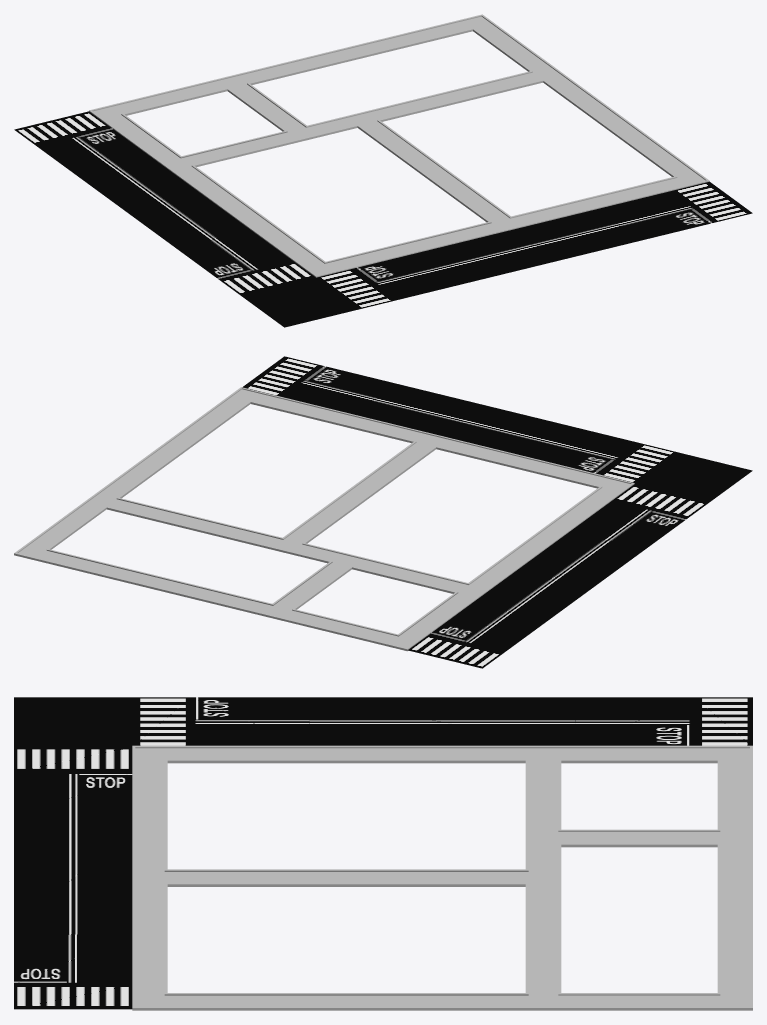
The model's file is Street_07.fbx.
3 views of the same model, one above another, from view 1: azimuth 30°, elevation 25°; view 2: azimuth 150°, elevation 25°; view 3: azimuth 270°, elevation 25° (orthographic). The views are drawn at different scales.
Parts seen in each view (by area): view 1: road, sidewalk; view 2: road, sidewalk; view 3: road, sidewalk.
Part boxes in pixels (x1=…): road: x1=14, y1=111, x2=752, y2=327; sidewalk: x1=89, y1=14, x2=709, y2=277; road: x1=242, y1=356, x2=752, y2=668; sidewalk: x1=14, y1=387, x2=634, y2=651; road: x1=14, y1=697, x2=752, y2=1009; sidewalk: x1=132, y1=745, x2=752, y2=1010.
Bounding box in the file's own units: 5000 × 20 × 5000.
